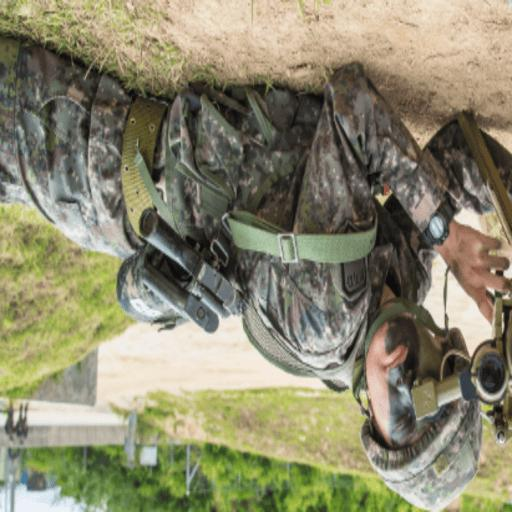korea army: (3, 30, 509, 504)
